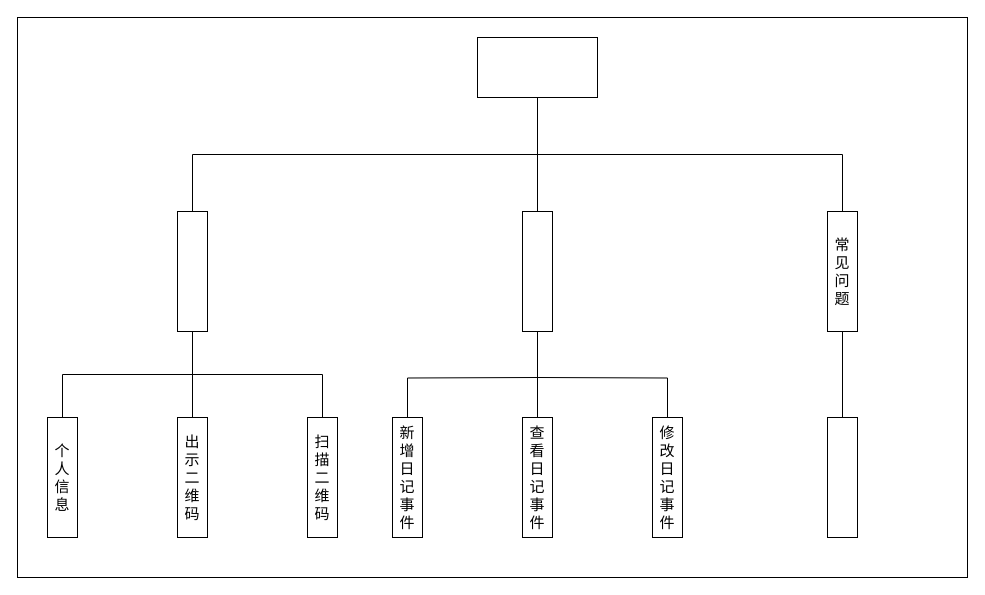
This 985x595 diagram has some shape labels left out. The box of each missing label's shape, as (x1, y1, x2, y2) in pixels:
个人中心: (176, 210, 208, 332)
患者端: (476, 36, 598, 98)
查看科普文章: (826, 416, 858, 538)
置管日记: (522, 210, 552, 332)
